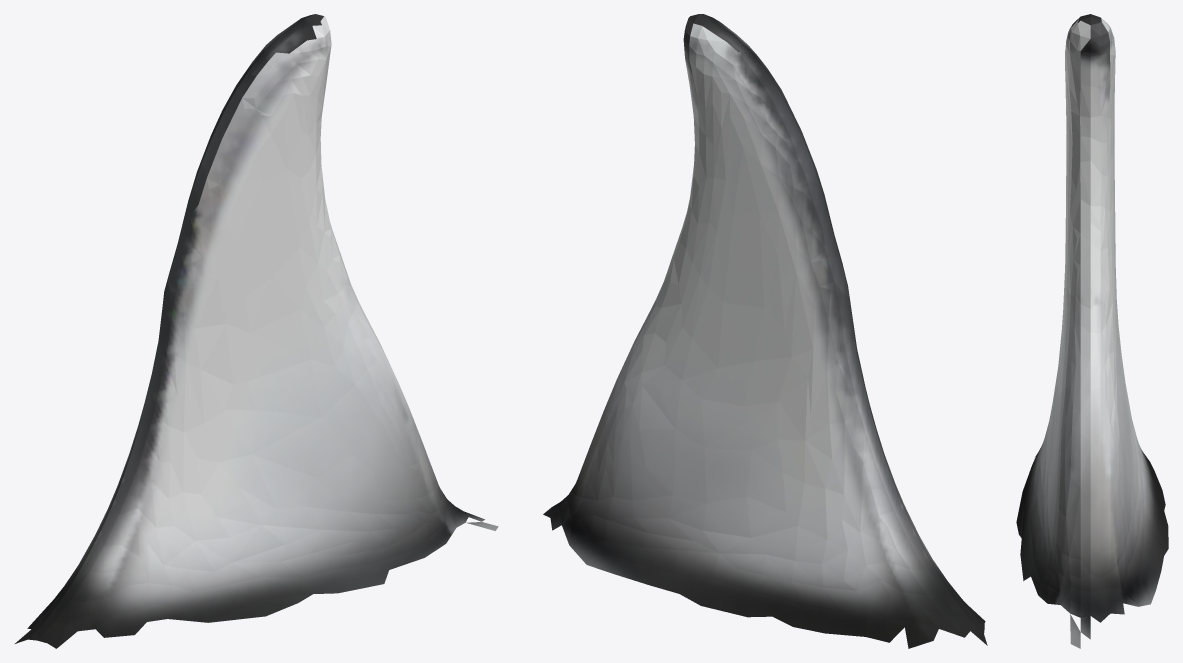
The model's file is top_fins.glb.
3 views of the same model, side by side, from view 1: azimuth 30°, elevation 25°; view 2: azimuth 150°, elevation 25°; view 3: azimuth 270°, elevation 25° (orthographic).
Visible parts, largest first — view 1: Top_Fin; view 2: Top_Fin; view 3: Top_Fin.
Boxes of the visible parts, x1=… form: Top_Fin: x1=15, y1=14, x2=498, y2=648; Top_Fin: x1=543, y1=14, x2=987, y2=648; Top_Fin: x1=1016, y1=14, x2=1168, y2=648.
Size of the model in its own units: 0.2857 by 0.3231 by 0.0802.
Materials: 1 (1 with a texture image).
